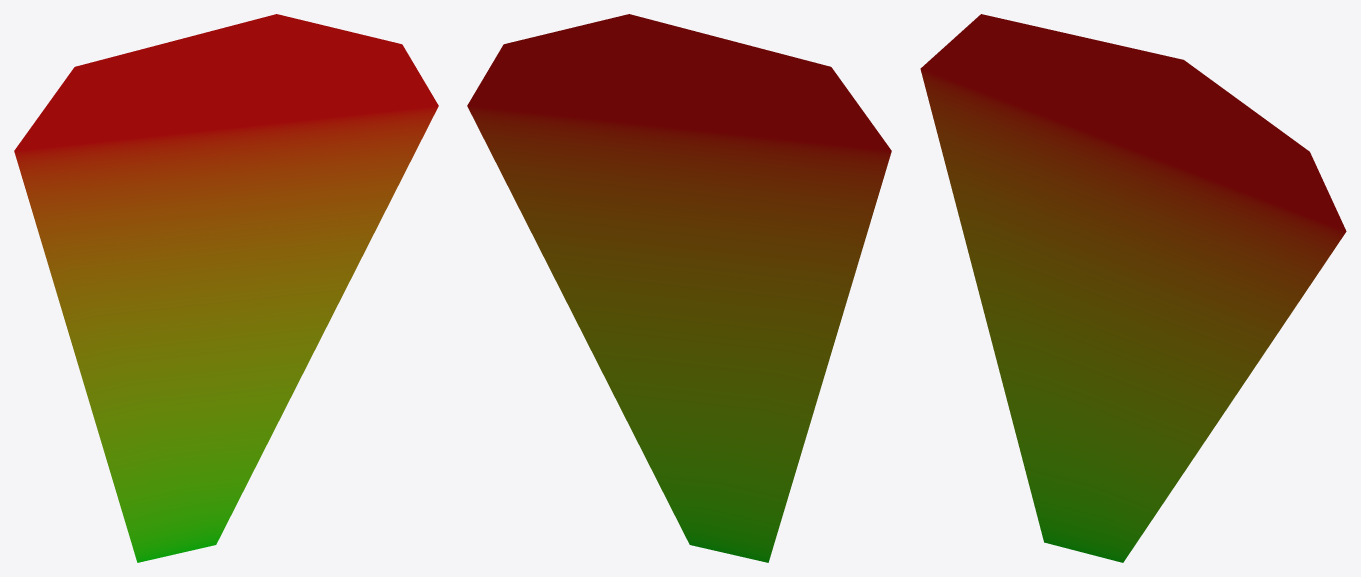
Rendered from Var7_LOD3.fbx.
3 views of the same model, side by side, from view 1: azimuth 30°, elevation 25°; view 2: azimuth 150°, elevation 25°; view 3: azimuth 330°, elevation 25° (orthographic).
Parts seen in each view (by area): view 1: _eca1_Var7_LOD3; view 2: _eca1_Var7_LOD3; view 3: _eca1_Var7_LOD3.
Part boxes in pixels (x1,y1,x2,y2): _eca1_Var7_LOD3: (14, 14, 438, 562); _eca1_Var7_LOD3: (467, 14, 891, 562); _eca1_Var7_LOD3: (920, 14, 1346, 562).
Size of the model in its own units: 136 by 158 by 7.63e-06.
